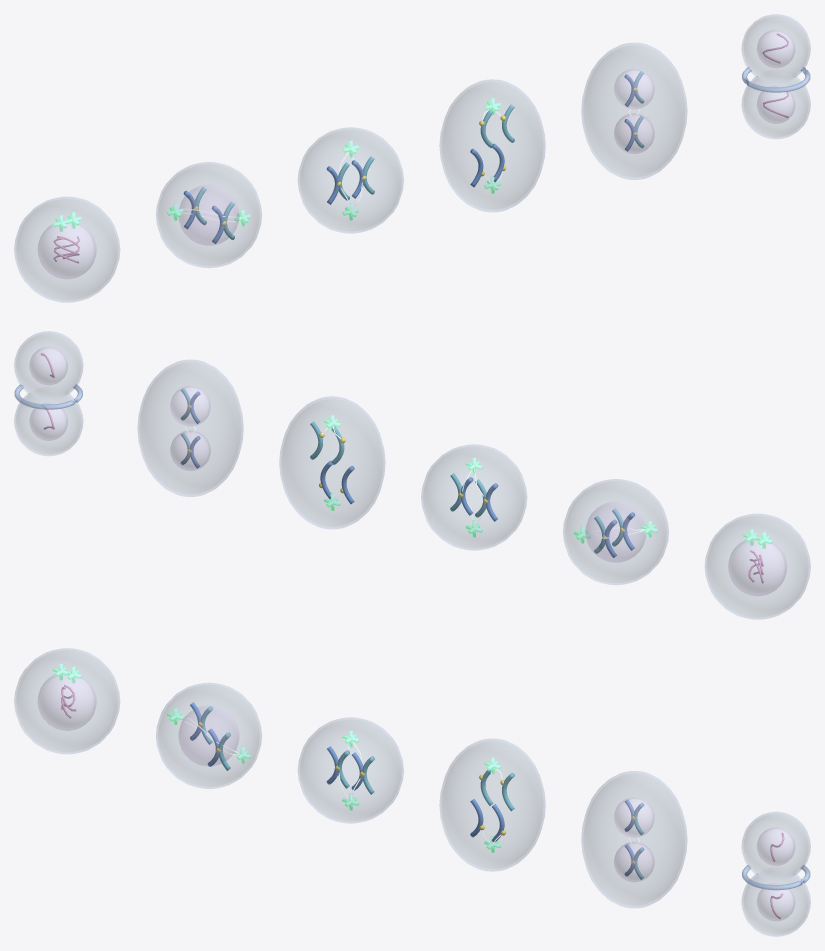
File: mitosis_stages.glb
3 views of the same model, one above another, from view 1: azimuth 30°, elevation 25°; view 2: azimuth 150°, elevation 25°; view 3: azimuth 330°, elevation 25° (orthographic).
Visible parts, largest first — view 1: Cell_Membrane_Telophase, Cell_Membrane_Anaphase, Cell_Membrane_Prophase, Cell_Membrane_Metaphase, Cell_Membrane_Interphase, Cell_Membrane_Cytokinesis_02, Cell_Membrane_Cytokinesis_01, Nuclear_Envelope_Prophase, Nuclear_Envelope_Interphase, Nuclear_Envelope_Telophase_02, Nuclear_Envelope_Telophase_01, Nuclear_Envelope_Cytokinesis_02 (+2 smaller); view 2: Cell_Membrane_Telophase, Cell_Membrane_Anaphase, Cell_Membrane_Prophase, Cell_Membrane_Metaphase, Cell_Membrane_Interphase, Cell_Membrane_Cytokinesis_02, Cell_Membrane_Cytokinesis_01, Nuclear_Envelope_Prophase, Nuclear_Envelope_Interphase, Nuclear_Envelope_Telophase_02, Nuclear_Envelope_Telophase_01, Nuclear_Envelope_Cytokinesis_02 (+2 smaller); view 3: Cell_Membrane_Telophase, Cell_Membrane_Anaphase, Cell_Membrane_Prophase, Cell_Membrane_Metaphase, Cell_Membrane_Interphase, Cell_Membrane_Cytokinesis_02, Cell_Membrane_Cytokinesis_01, Nuclear_Envelope_Prophase, Nuclear_Envelope_Interphase, Nuclear_Envelope_Telophase_02, Nuclear_Envelope_Telophase_01, Nuclear_Envelope_Cytokinesis_02 (+2 smaller).
Part boxes in pixels (left/top/right/bottom): Cell_Membrane_Telophase: left=581, top=43, right=687, bottom=179; Cell_Membrane_Anaphase: left=439, top=79, right=545, bottom=211; Cell_Membrane_Prophase: left=156, top=162, right=261, bottom=267; Cell_Membrane_Metaphase: left=298, top=127, right=403, bottom=233; Cell_Membrane_Interphase: left=14, top=197, right=119, bottom=302; Cell_Membrane_Cytokinesis_02: left=741, top=14, right=810, bottom=83; Cell_Membrane_Cytokinesis_01: left=741, top=76, right=810, bottom=138; Nuclear_Envelope_Prophase: left=179, top=184, right=239, bottom=245; Nuclear_Envelope_Interphase: left=38, top=223, right=96, bottom=278; Nuclear_Envelope_Telophase_02: left=614, top=69, right=654, bottom=108; Nuclear_Envelope_Telophase_01: left=614, top=113, right=654, bottom=153; Nuclear_Envelope_Cytokinesis_02: left=757, top=29, right=795, bottom=67; Cell_Membrane_Telophase: left=137, top=360, right=243, bottom=496; Cell_Membrane_Anaphase: left=279, top=396, right=385, bottom=528; Cell_Membrane_Prophase: left=563, top=479, right=668, bottom=584; Cell_Membrane_Metaphase: left=421, top=444, right=526, bottom=550; Cell_Membrane_Interphase: left=705, top=514, right=810, bottom=619; Cell_Membrane_Cytokinesis_02: left=14, top=331, right=83, bottom=400; Cell_Membrane_Cytokinesis_01: left=14, top=393, right=83, bottom=455; Nuclear_Envelope_Prophase: left=585, top=501, right=645, bottom=562; Nuclear_Envelope_Interphase: left=728, top=540, right=786, bottom=595; Nuclear_Envelope_Telophase_02: left=170, top=386, right=210, bottom=425; Nuclear_Envelope_Telophase_01: left=170, top=430, right=210, bottom=470; Nuclear_Envelope_Cytokinesis_02: left=29, top=346, right=67, bottom=384; Cell_Membrane_Telophase: left=581, top=771, right=687, bottom=907; Cell_Membrane_Anaphase: left=439, top=739, right=545, bottom=871; Cell_Membrane_Prophase: left=156, top=683, right=261, bottom=788; Cell_Membrane_Metaphase: left=298, top=717, right=403, bottom=823; Cell_Membrane_Interphase: left=14, top=648, right=119, bottom=753; Cell_Membrane_Cytokinesis_02: left=741, top=812, right=810, bottom=880; Cell_Membrane_Cytokinesis_01: left=741, top=874, right=810, bottom=936; Nuclear_Envelope_Prophase: left=178, top=705, right=239, bottom=766; Nuclear_Envelope_Interphase: left=38, top=675, right=96, bottom=730; Nuclear_Envelope_Telophase_02: left=614, top=797, right=654, bottom=837; Nuclear_Envelope_Telophase_01: left=614, top=842, right=654, bottom=881; Nuclear_Envelope_Cytokinesis_02: left=757, top=827, right=795, bottom=865.
Size of the model in its own units: 44.3 by 7.02 by 5.2.
